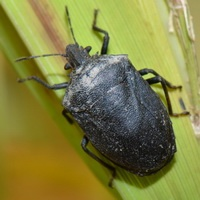insect: (16, 6, 188, 182)
